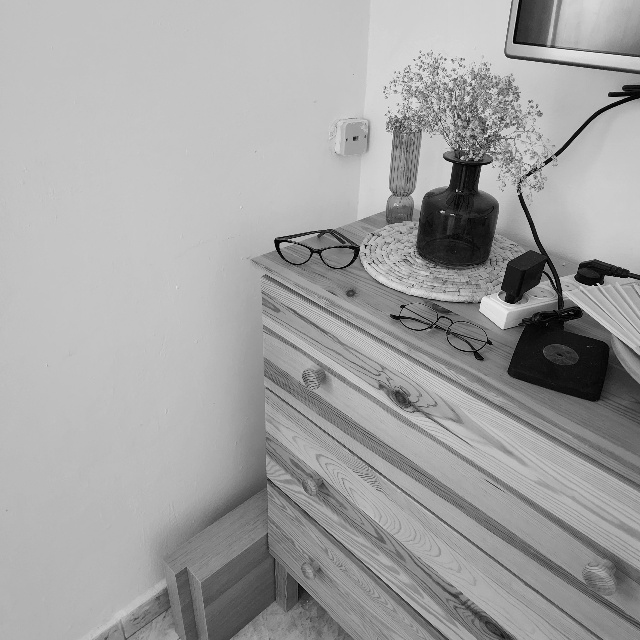glasses: (387, 301, 494, 362), (274, 228, 359, 268)
